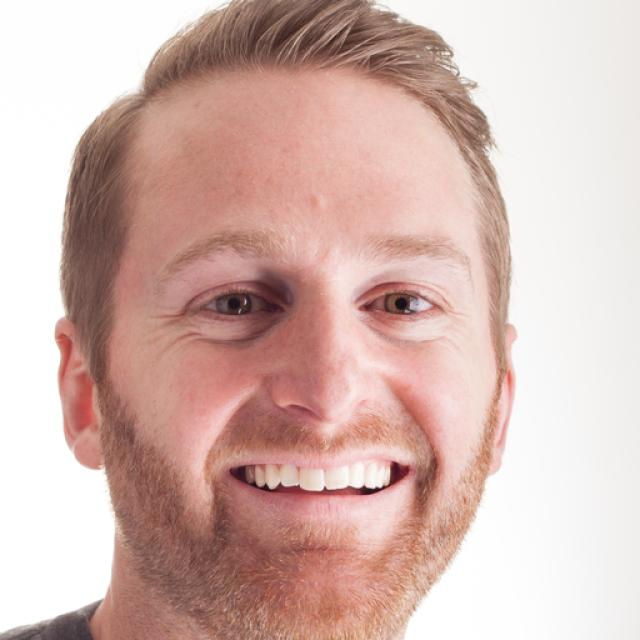Acne: (310, 187, 326, 212)
